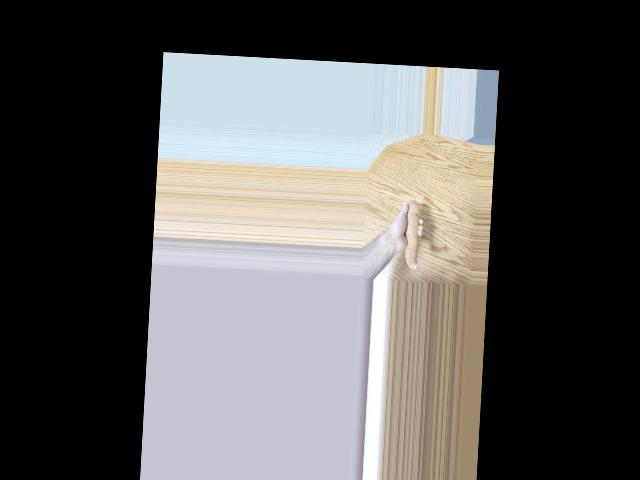sweet_potato: (396, 199, 421, 270)
